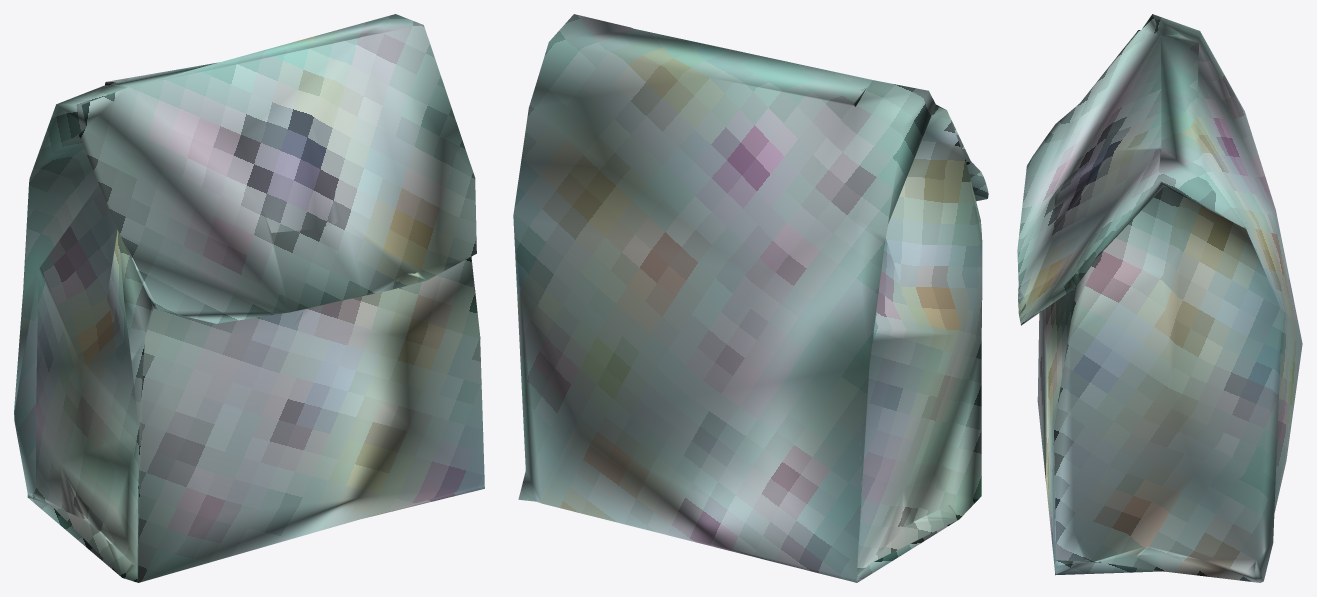
The model's file is Olive_Kids_Birdie_Munch_n_Lunch-low.glb.
3 views of the same model, side by side, from view 1: azimuth 30°, elevation 25°; view 2: azimuth 150°, elevation 25°; view 3: azimuth 270°, elevation 25° (orthographic). The views are drawn at different scales.
Parts seen in each view (by area): view 1: Olive_Kids_Birdie_Munch_n_Lunch; view 2: Olive_Kids_Birdie_Munch_n_Lunch; view 3: Olive_Kids_Birdie_Munch_n_Lunch.
Boxes of the visible parts, box(x1,y1,x2,y2) form: Olive_Kids_Birdie_Munch_n_Lunch: box(14, 14, 484, 582); Olive_Kids_Birdie_Munch_n_Lunch: box(513, 14, 988, 582); Olive_Kids_Birdie_Munch_n_Lunch: box(1017, 14, 1302, 582).
Bounding box in the file's own units: 0.2285 × 0.2632 × 0.1624.
Materials: 1 (1 with a texture image).
